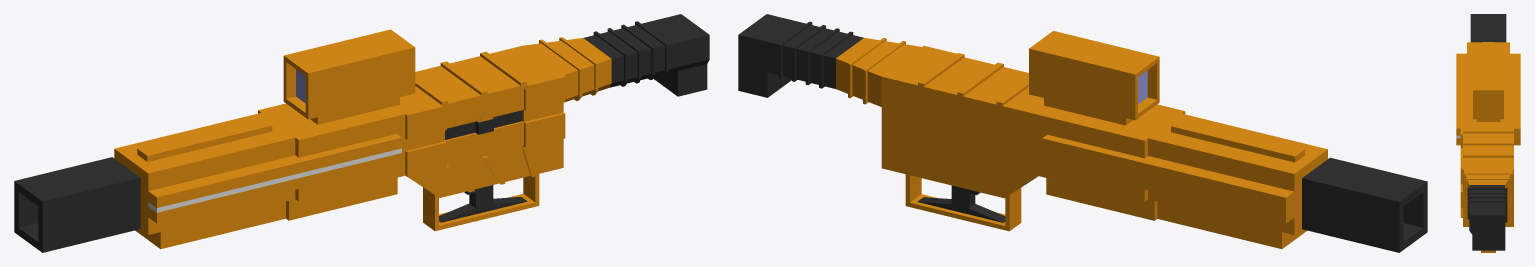
Rendered from Gun.fbx.
3 renders of one model, left to right at view 1: azimuth 30°, elevation 25°; view 2: azimuth 150°, elevation 25°; view 3: azimuth 270°, elevation 25°, orthographic. The views are drawn at different scales.
Parts seen in each view (by area): view 1: Gun; view 2: Gun; view 3: Gun.
Part boxes in pixels (x1,y1,x2,y2): Gun: (14, 14, 709, 252); Gun: (738, 14, 1427, 252); Gun: (1456, 14, 1520, 252).
Size of the model in its own units: 102 by 28.45 by 13.48.
